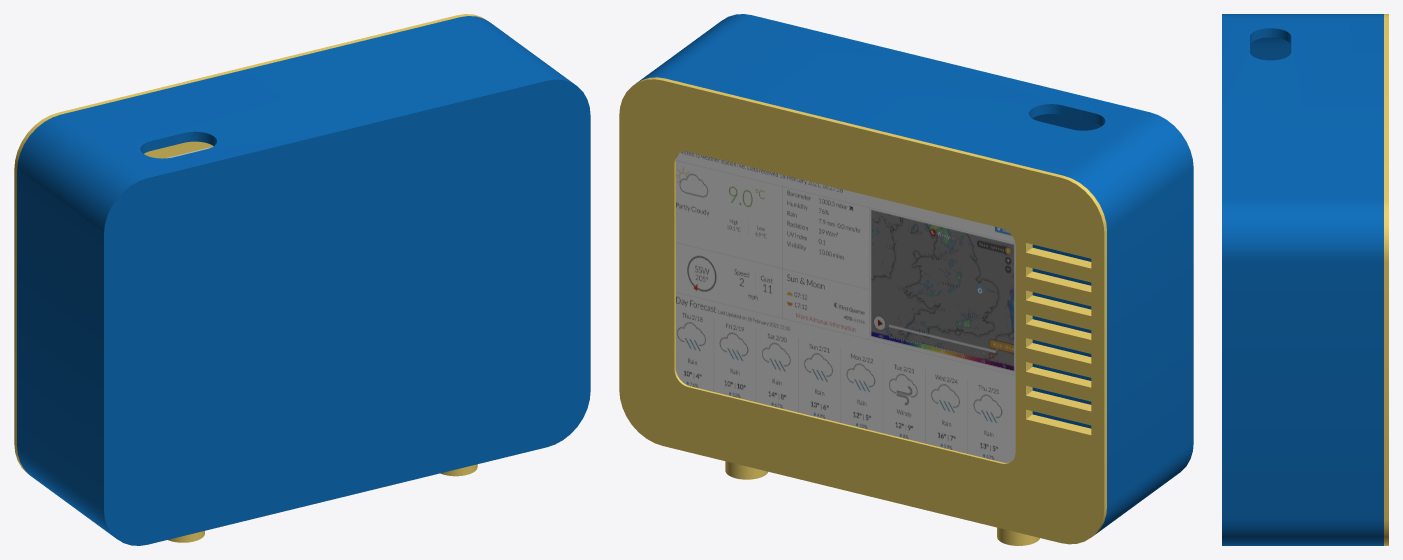
Rendered from screen.gltf.
The picture shows the model from 3 angles, left to right: view 1: azimuth 30°, elevation 25°; view 2: azimuth 150°, elevation 25°; view 3: azimuth 270°, elevation 25°; orthographic projection. The views are drawn at different scales.
Visible parts, largest first — view 1: Body1.016_2, Body2.010_12; view 2: Body1.013_11, Plane_213, Body1.016_2, Body2.010_12; view 3: Body1.016_2, Body2.010_12.
Part boxes in pixels (x1=…): Body1.016_2: x1=17, y1=16, x2=590, y2=545; Body2.010_12: x1=14, y1=14, x2=488, y2=474; Body1.013_11: x1=628, y1=89, x2=1094, y2=534; Plane_213: x1=676, y1=151, x2=1015, y2=462; Body1.016_2: x1=637, y1=14, x2=1193, y2=534; Body2.010_12: x1=619, y1=77, x2=1106, y2=544; Body1.016_2: x1=1222, y1=14, x2=1383, y2=545; Body2.010_12: x1=1384, y1=14, x2=1388, y2=545.
Bounding box in the file's own units: 5.21 × 4.01 × 1.66.
6 materials, 1 textured.
